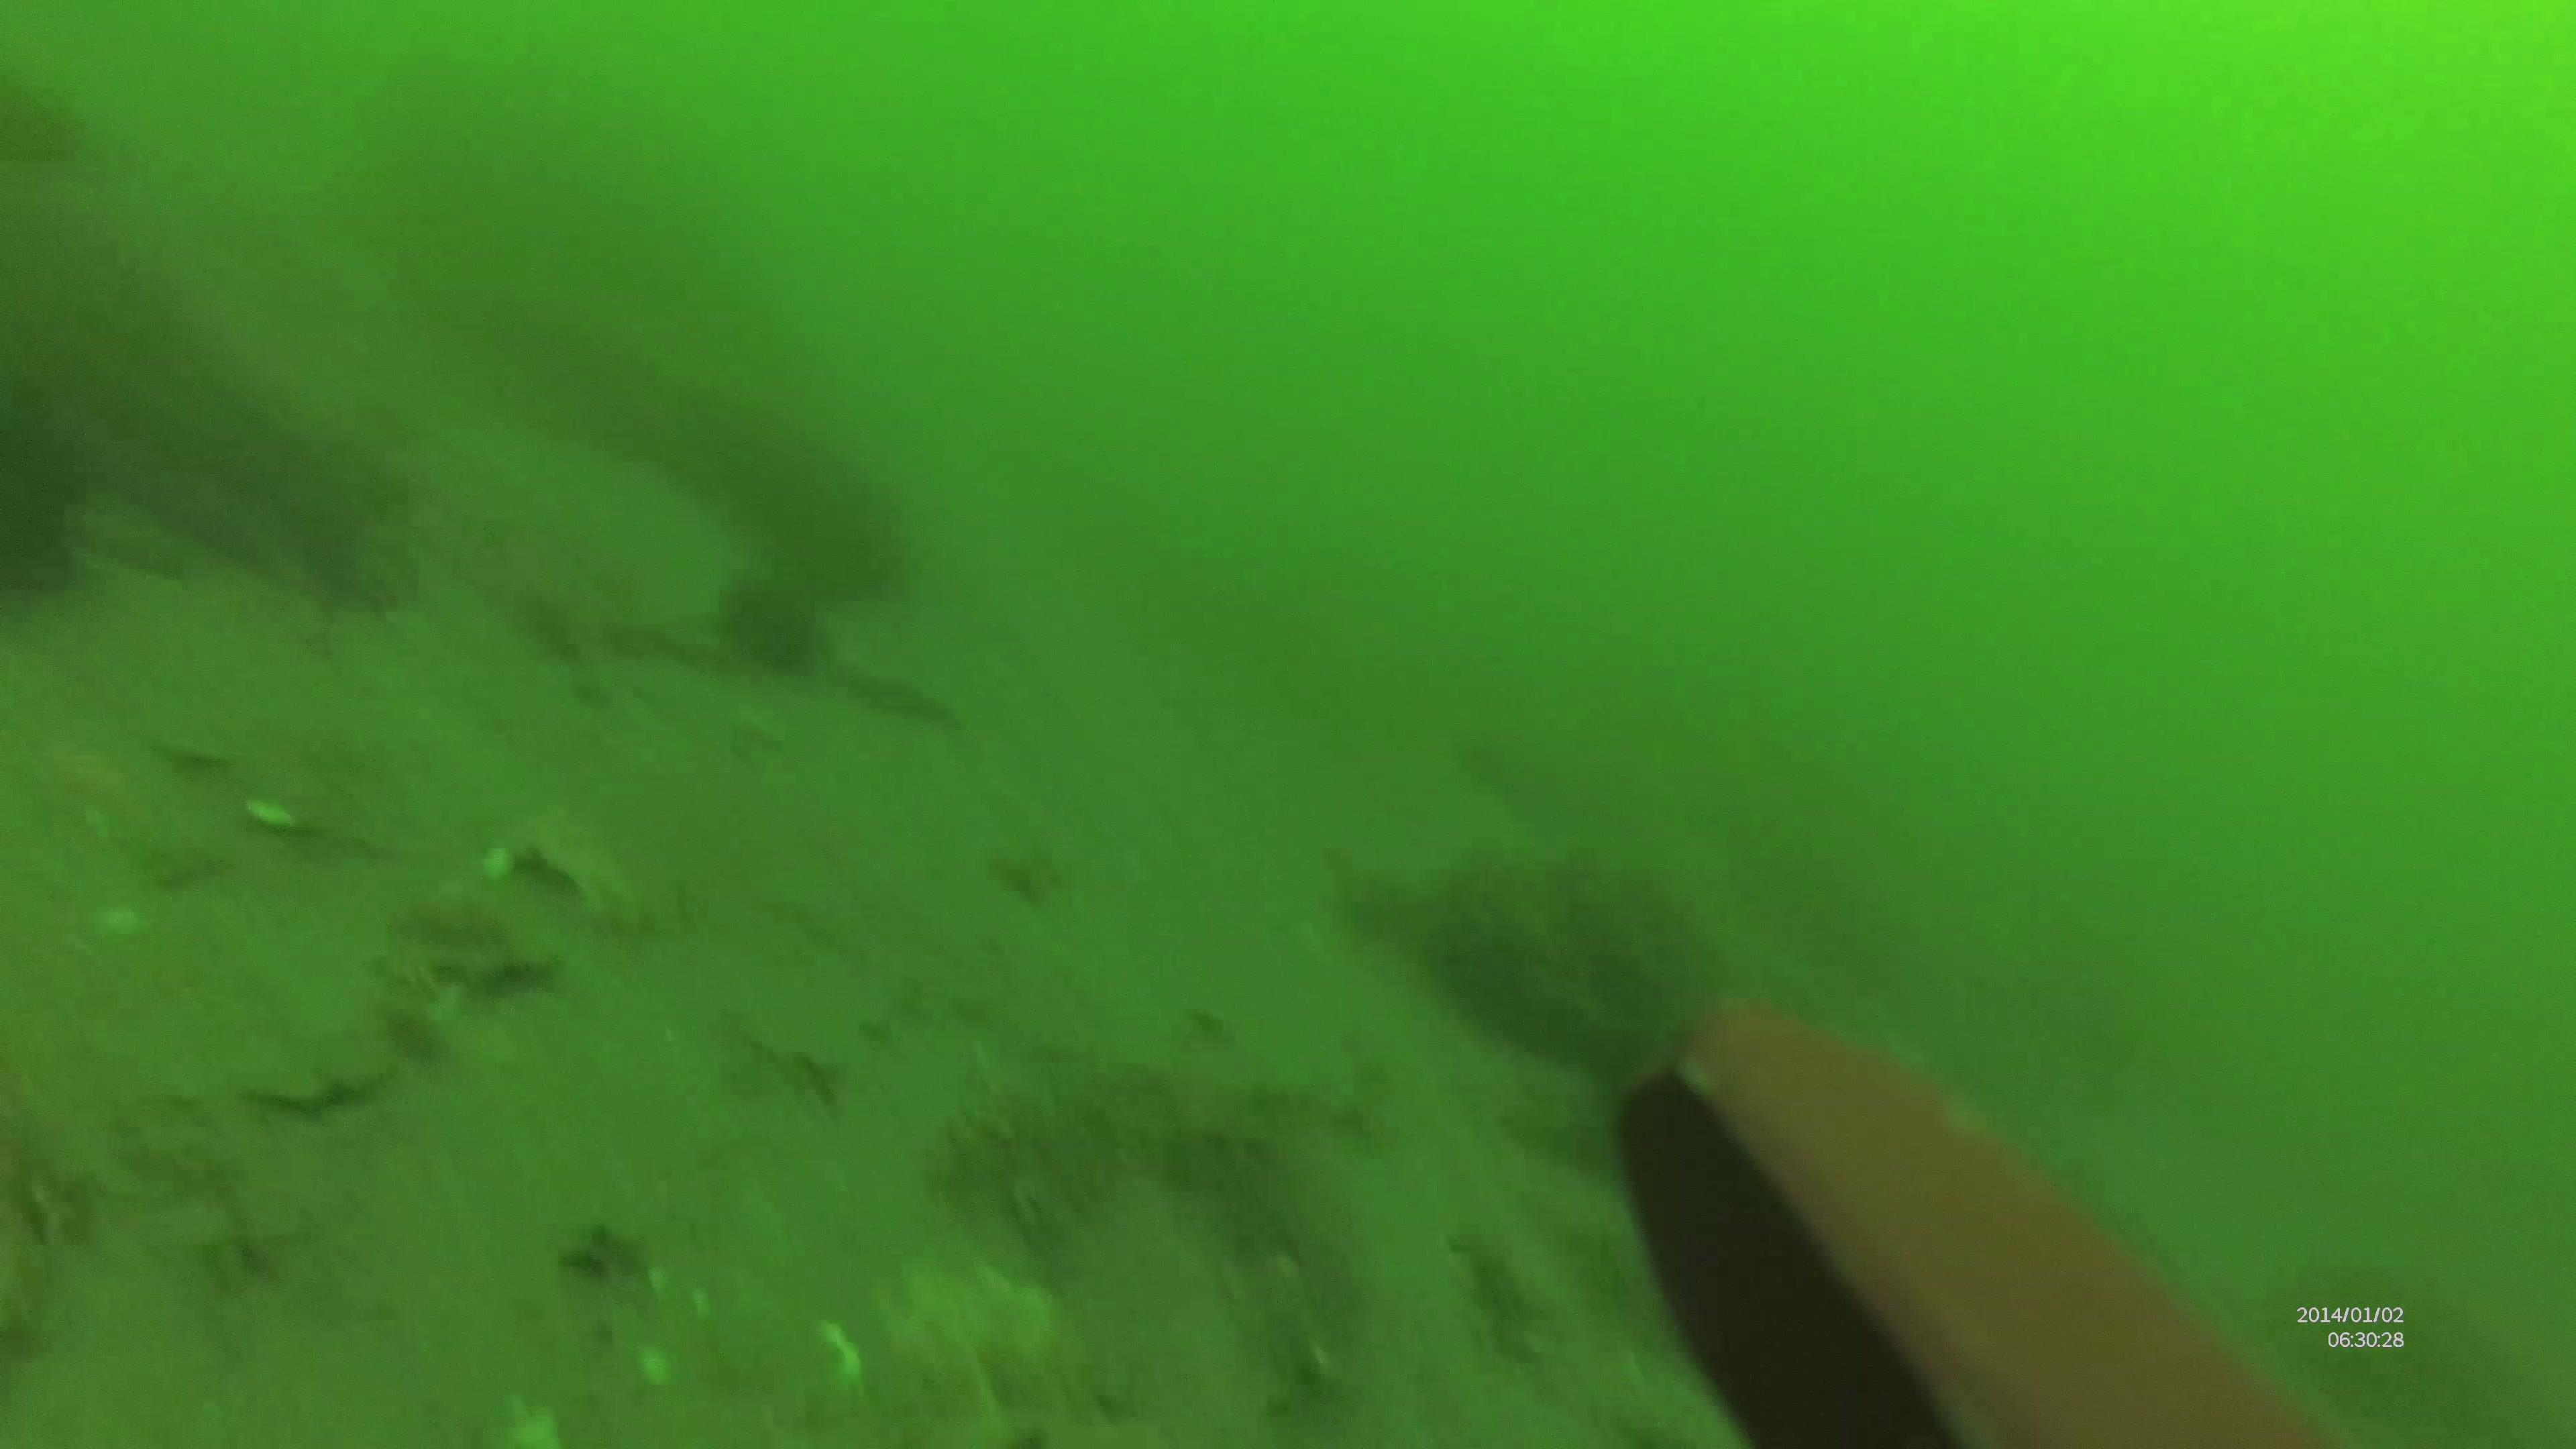echinus: (715, 564, 833, 683)
